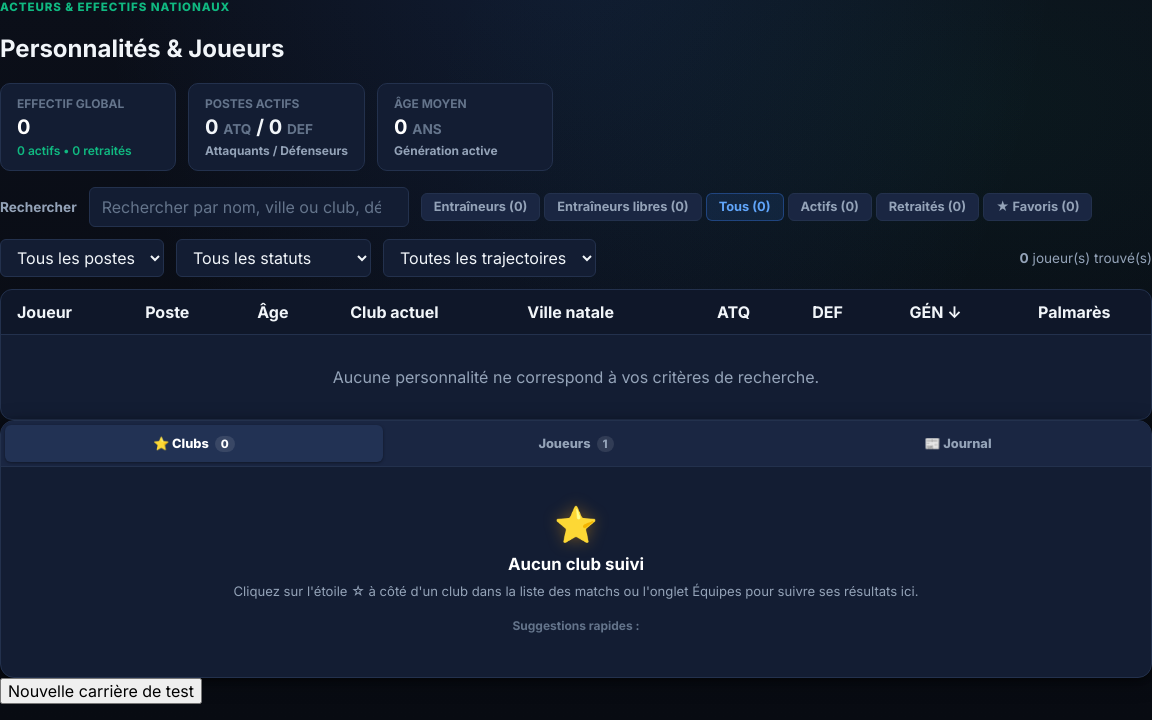
follows the same person at their new club in the next season
Click the button with aria-label "Joueurs suivis". click: (576, 444)
box: [387,425,765,462]
(page scrolled)
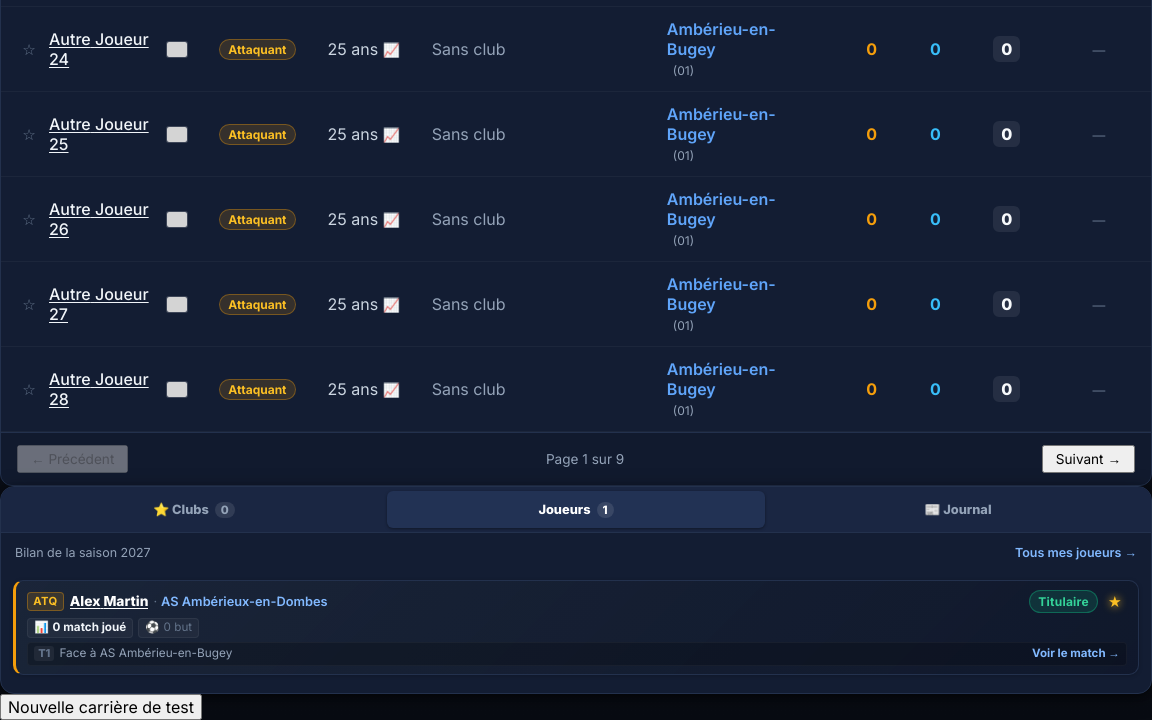
Now the text "0 match joué" is shown, box [53,620,126,636]
